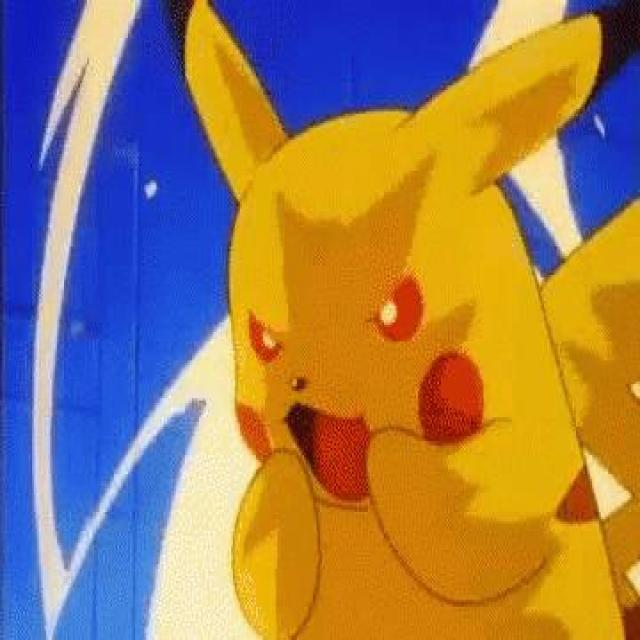pikachu: (161, 0, 640, 640)
